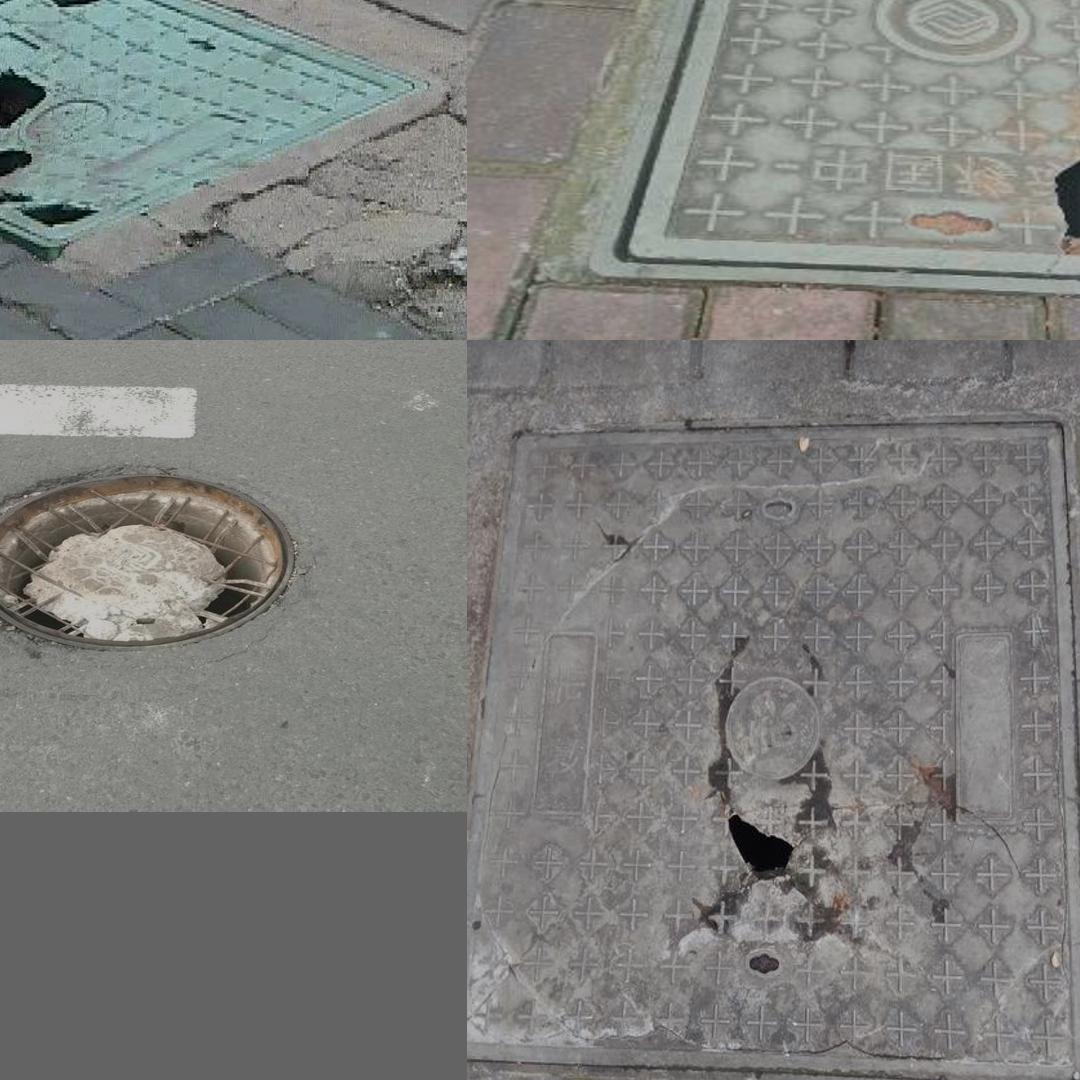broke: (468, 372, 1080, 1080), (582, 0, 1080, 303), (0, 0, 426, 265), (0, 453, 310, 656)
